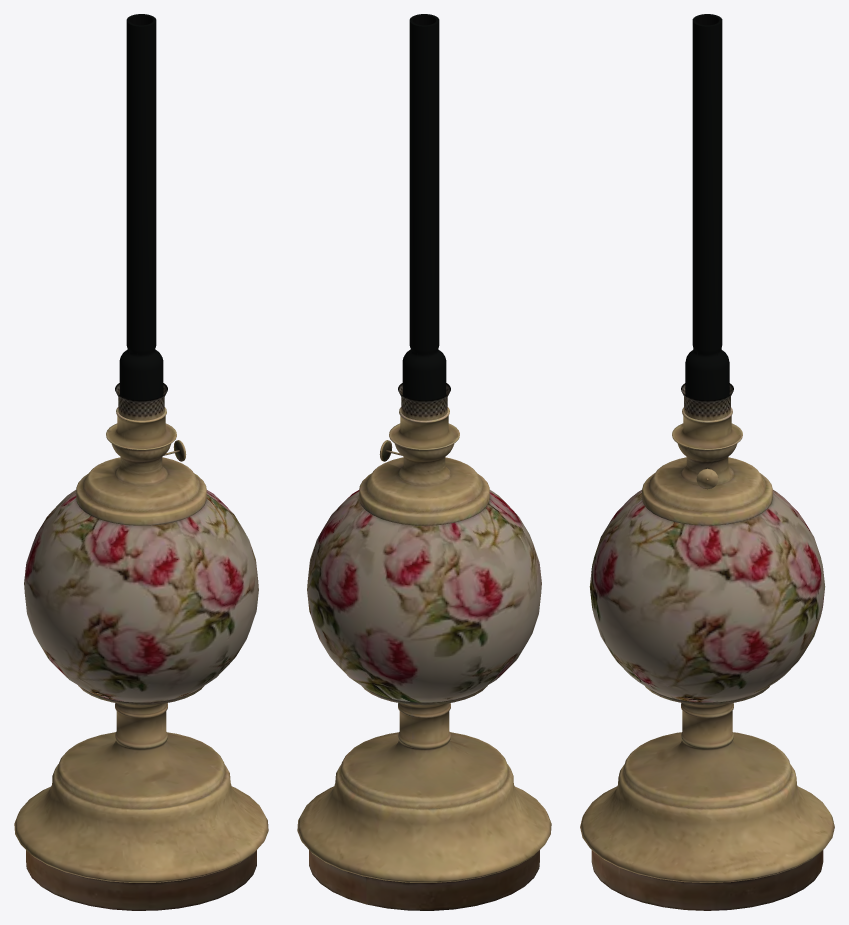
Rendered from vintage_oil_lamp.glb.
3 views of the same model, side by side, from view 1: azimuth 30°, elevation 25°; view 2: azimuth 150°, elevation 25°; view 3: azimuth 270°, elevation 25° (orthographic).
Visible parts, largest first — view 1: vintage_oil_lamp, vintage_oil_lamp_glass; view 2: vintage_oil_lamp, vintage_oil_lamp_glass; view 3: vintage_oil_lamp, vintage_oil_lamp_glass.
Part boxes in pixels (<box>): vintage_oil_lamp: <box>14,407,268,910</box>; vintage_oil_lamp_glass: <box>115,14,167,420</box>; vintage_oil_lamp: <box>297,407,551,910</box>; vintage_oil_lamp_glass: <box>398,14,450,420</box>; vintage_oil_lamp: <box>580,407,834,910</box>; vintage_oil_lamp_glass: <box>681,14,733,420</box>.
Size of the model in its own units: 0.22 by 0.8016 by 0.22.
Materials: 3 (3 with a texture image).
